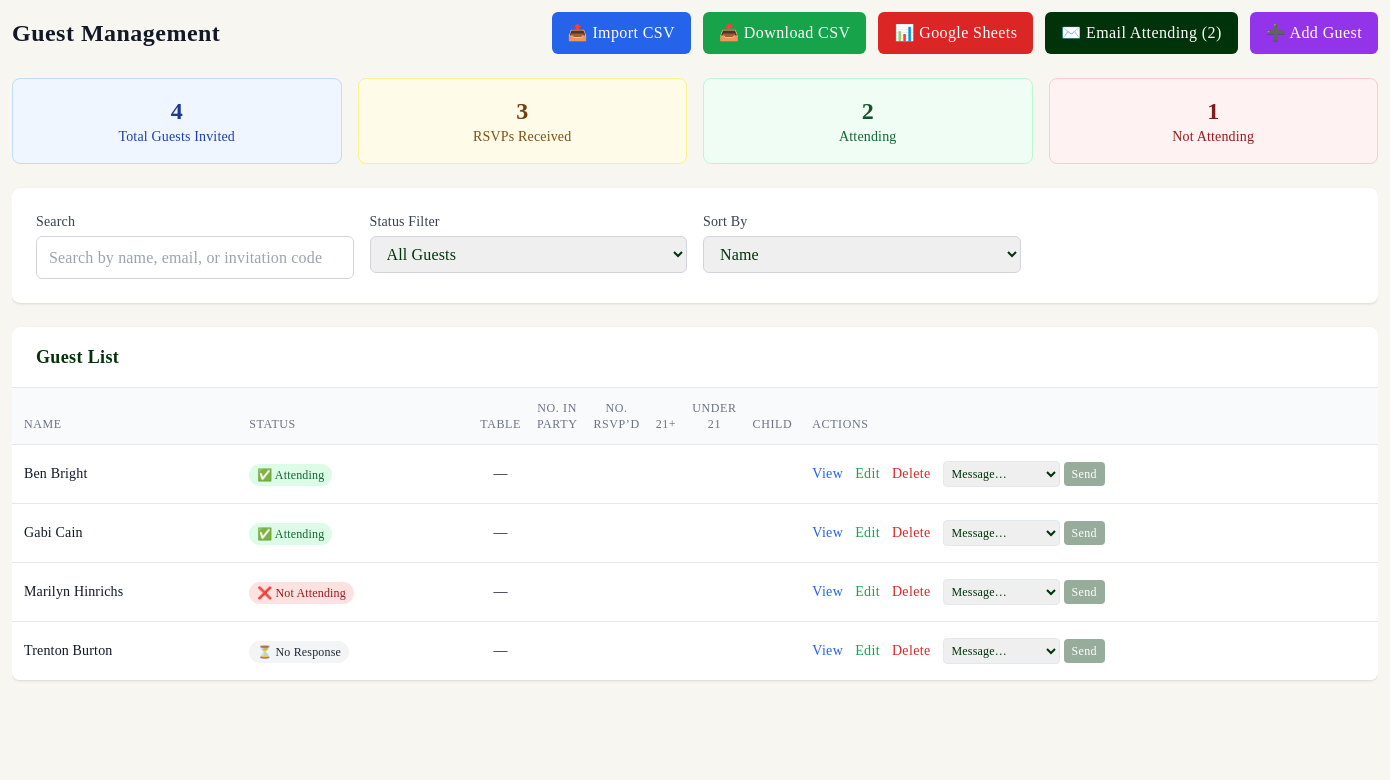
Test: splits the whole list between Responded and No Response
The width and height of the screenshot is (1390, 780).
Expected: the text "Gabi Cain" is shown, x1=24 y1=525 x2=83 y2=540
Select "RSVPs Received" in the dropdown labelled "Status Filter" at point(528, 254), box x1=370 y1=236 x2=687 y2=273
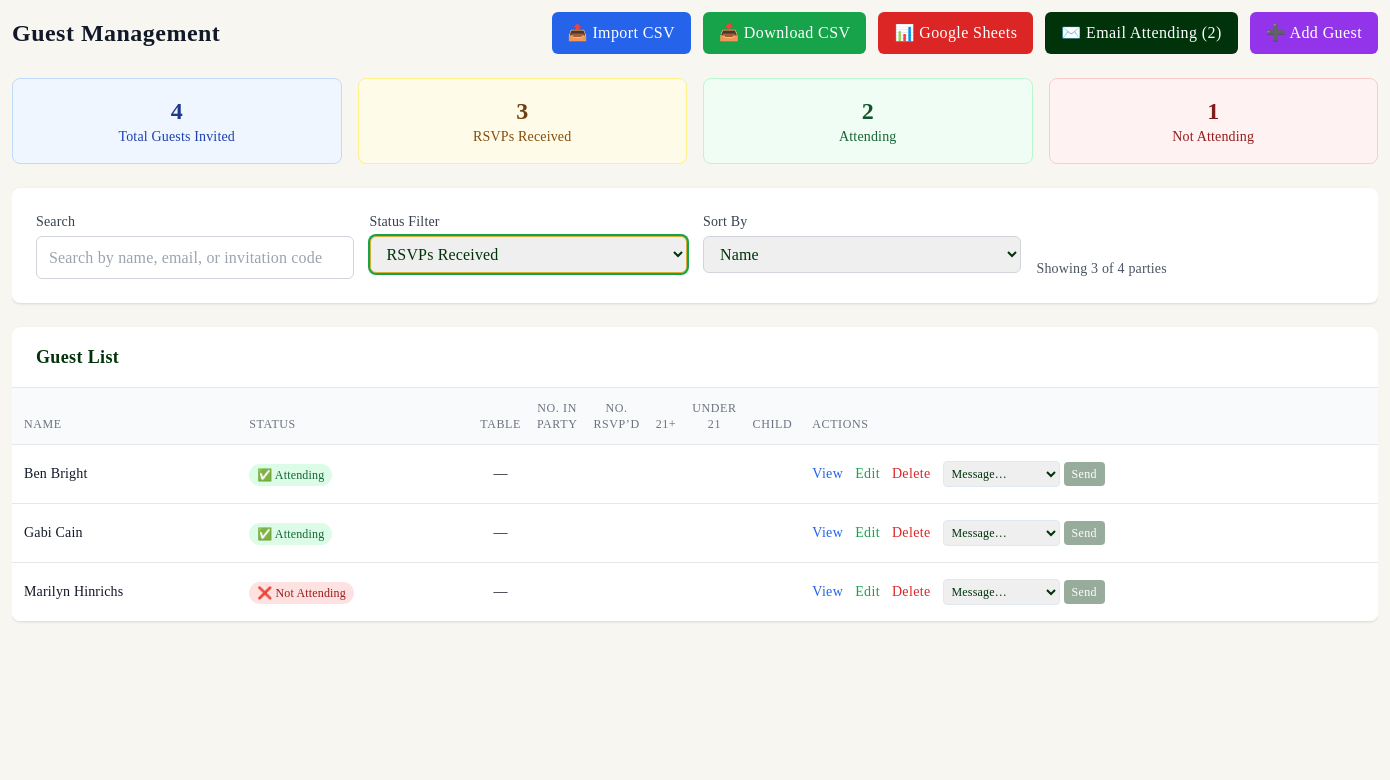
Now the text "Showing 3 of 4 parties" is shown, box x1=1036 y1=259 x2=1167 y2=279
Select "No Response" in the dropdown labelled "Status Filter" at point(528, 254), box x1=370 y1=236 x2=687 y2=273
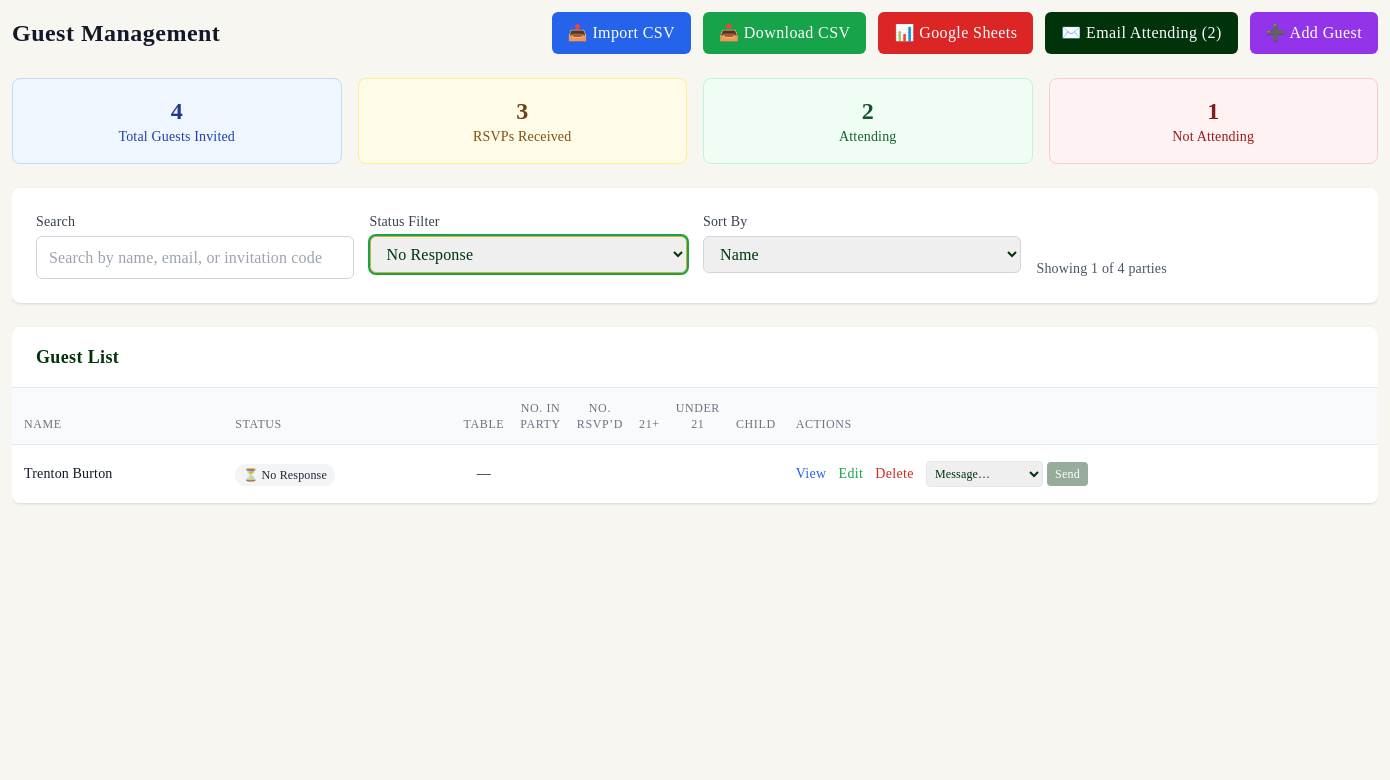
Now the text "Showing 1 of 4 parties" is shown, box x1=1036 y1=259 x2=1167 y2=279
